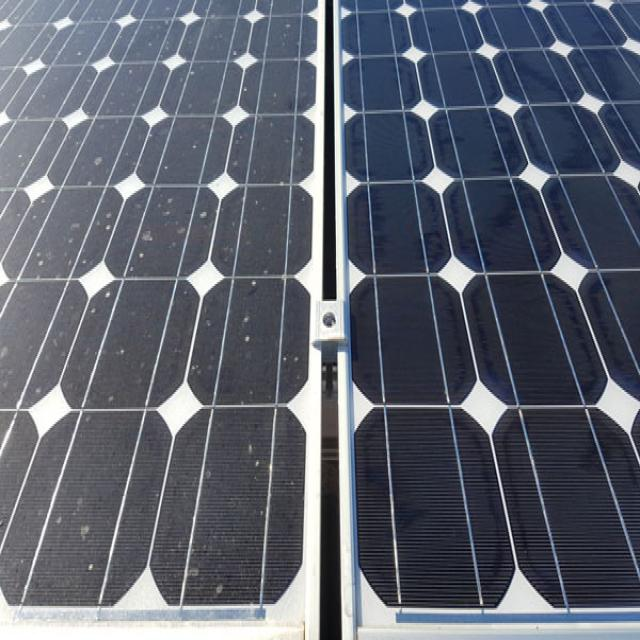clean-solar-panel: (337, 0, 640, 636)
